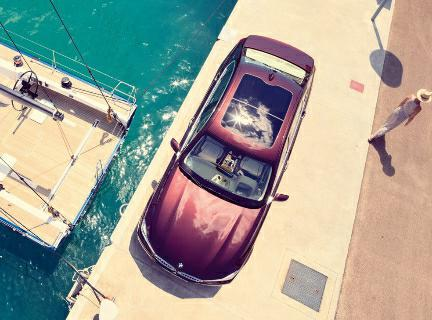宝马-7系: (130, 32, 323, 291)
